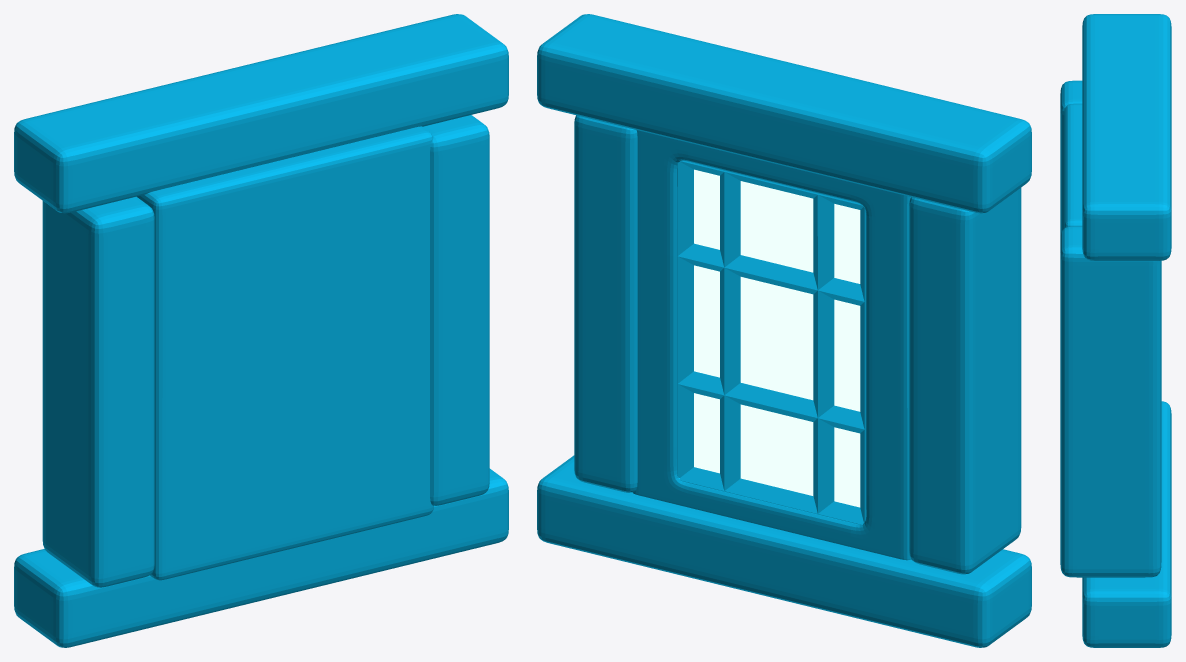
The model's file is SM_Stone_Window_05.fbx.
3 views of the same model, side by side, from view 1: azimuth 30°, elevation 25°; view 2: azimuth 150°, elevation 25°; view 3: azimuth 270°, elevation 25° (orthographic). The views are drawn at different scales.
Visible parts, largest first — view 1: SM_Stone_Window_05; view 2: SM_Stone_Window_05; view 3: SM_Stone_Window_05.
Boxes of the visible parts, x1=… form: SM_Stone_Window_05: x1=14, y1=14, x2=508, y2=647; SM_Stone_Window_05: x1=537, y1=14, x2=1031, y2=647; SM_Stone_Window_05: x1=1060, y1=14, x2=1171, y2=647.
Size of the model in its own units: 1 by 1.05 by 0.2395.
